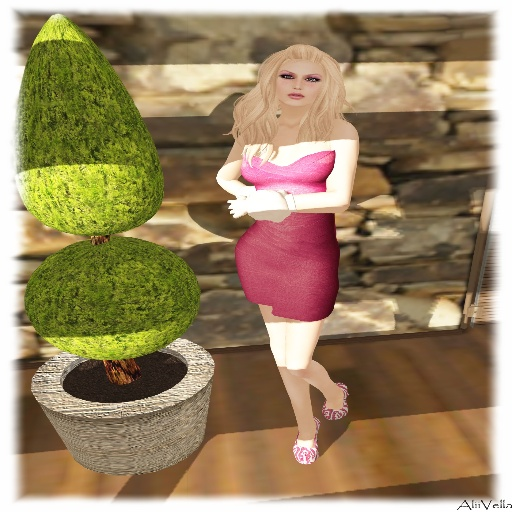hand: (227, 198, 243, 218), (280, 189, 287, 196)
